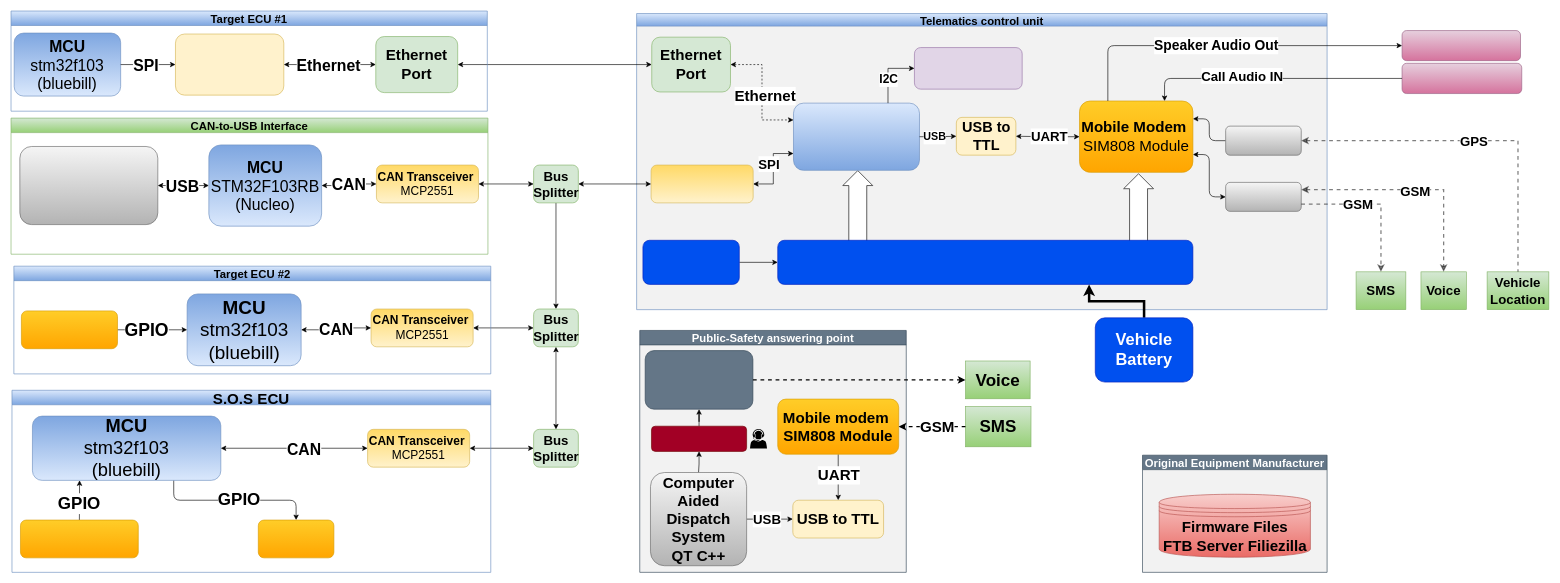
This 1560x583 diagram has some shape labels left out. The centre of each missing label's shape, as x and y in pixels:
"Accelerometer + Gyro MPU 9250" goes at (968,68).
"Backup Battery" goes at (690,262).
"Button" goes at (79,538).
"Buzzer" goes at (296,538).
"Cellular Antenna" goes at (1263,196).
"Dispatcher" goes at (699,438).
"Ethernet Module ENC28j60" goes at (229,64).
"GPS Antenna" goes at (1263,140).
"LED Array" goes at (69,329).
"MCU rassperry pi" goes at (856,136).
"Microphone" goes at (1461,78).
"Power Control Unit" goes at (985,262).
"Public Switch Telephone Network" goes at (699,379).
"Speakers" goes at (1461,45).
"SPI to CAN MCP2515" goes at (701,183).
"Vehicle Electronic Control Unit Simulator QT C++ / Matlab" goes at (88,185).
